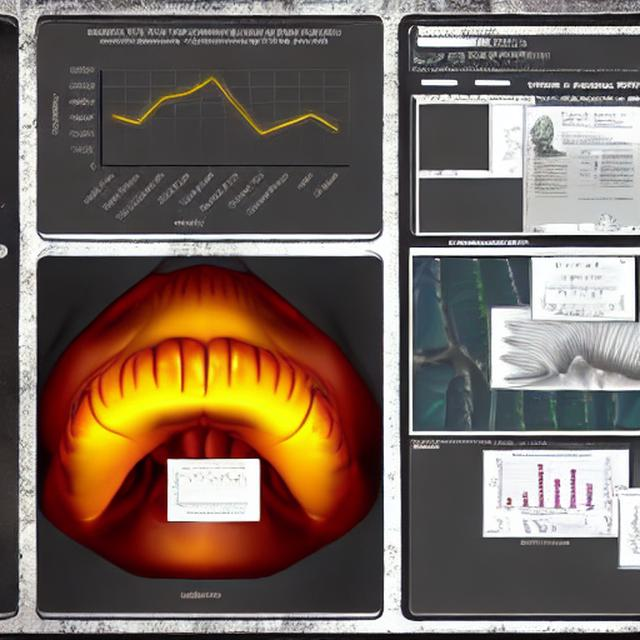Graph: (45, 23, 362, 234), (485, 452, 600, 517), (169, 465, 250, 512)
